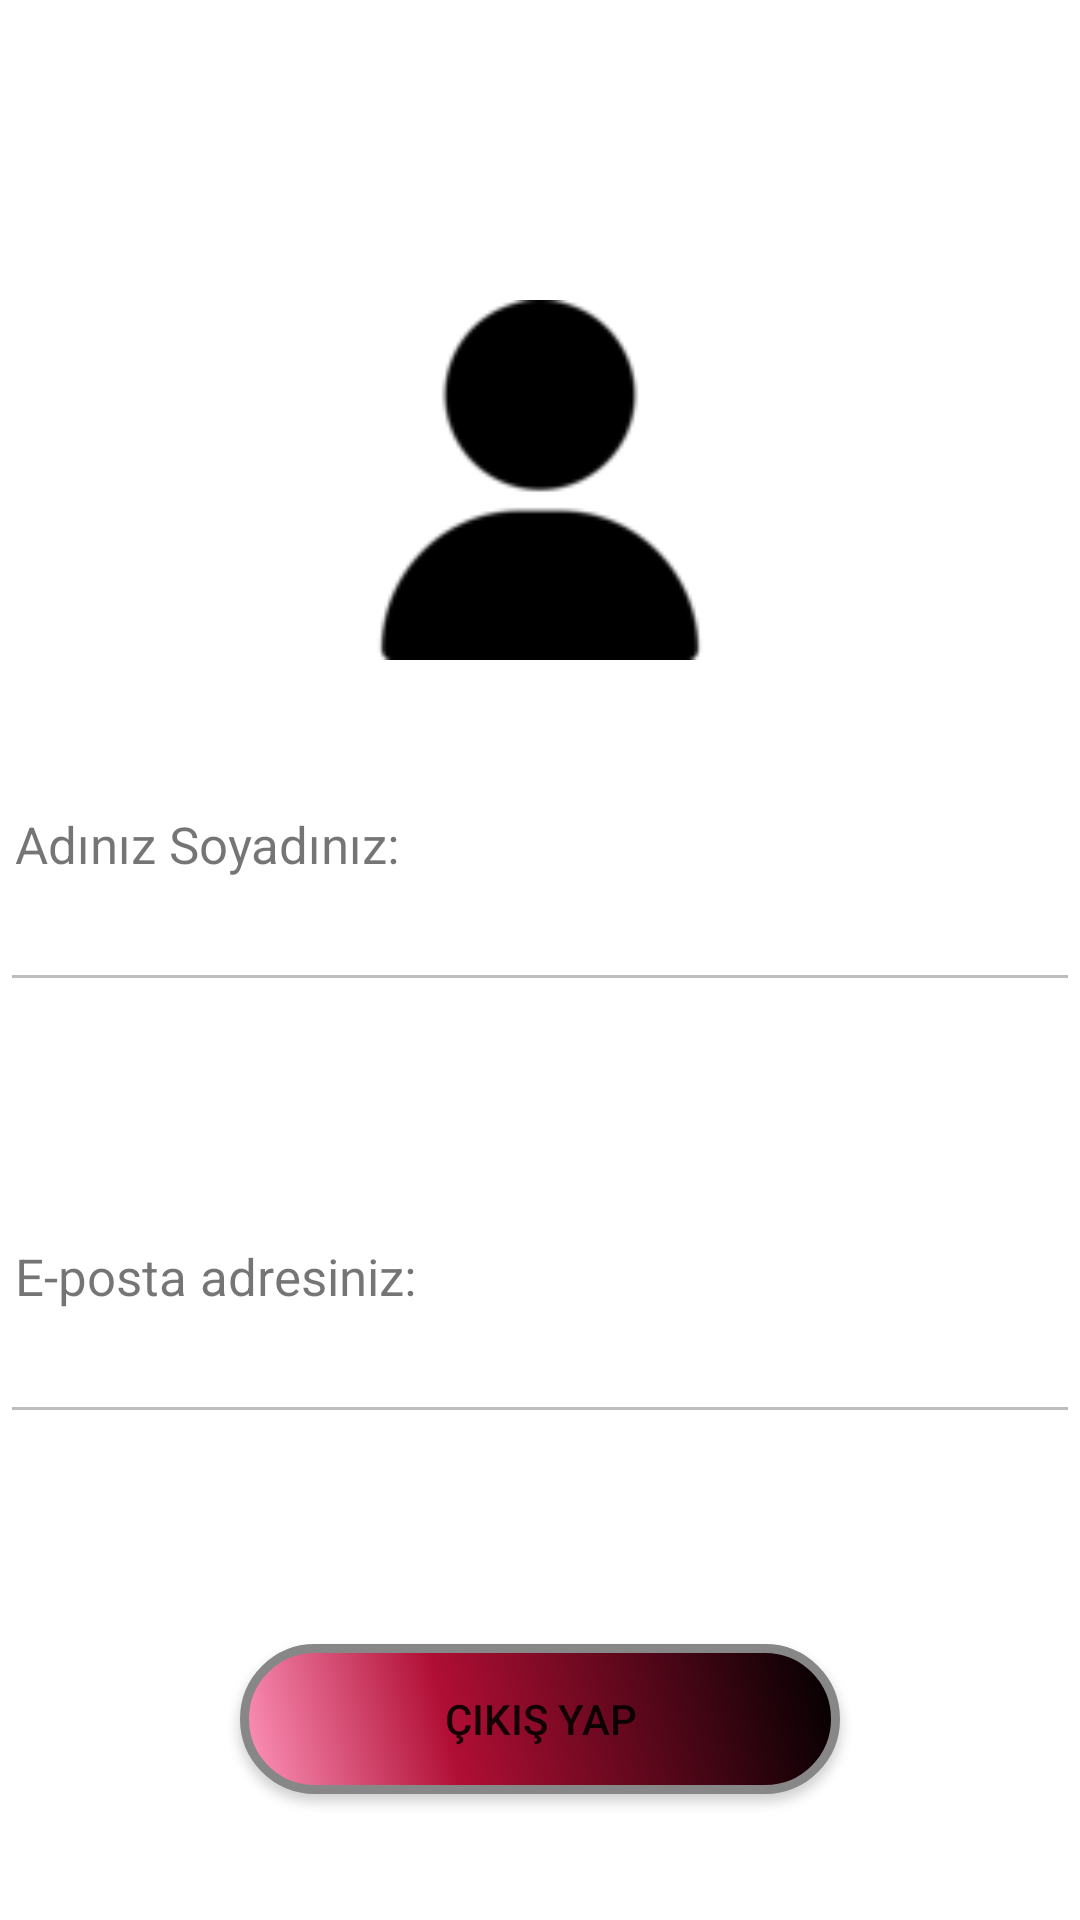

Screen size 1080*1920. Icon name, then its center in pixels as (x,y):
face: (540,480)
